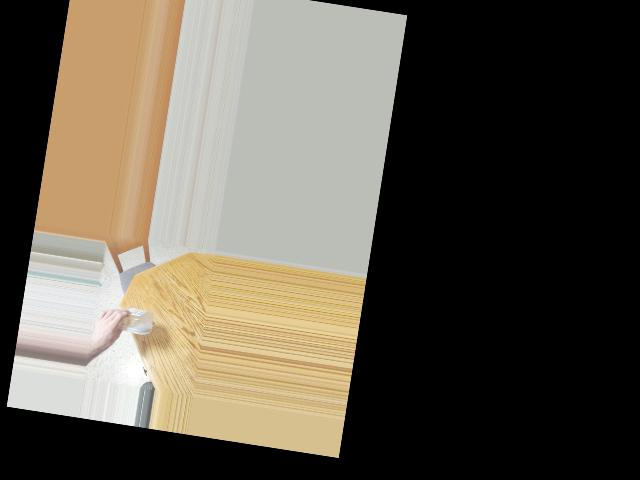cheese: (108, 298, 159, 346)
